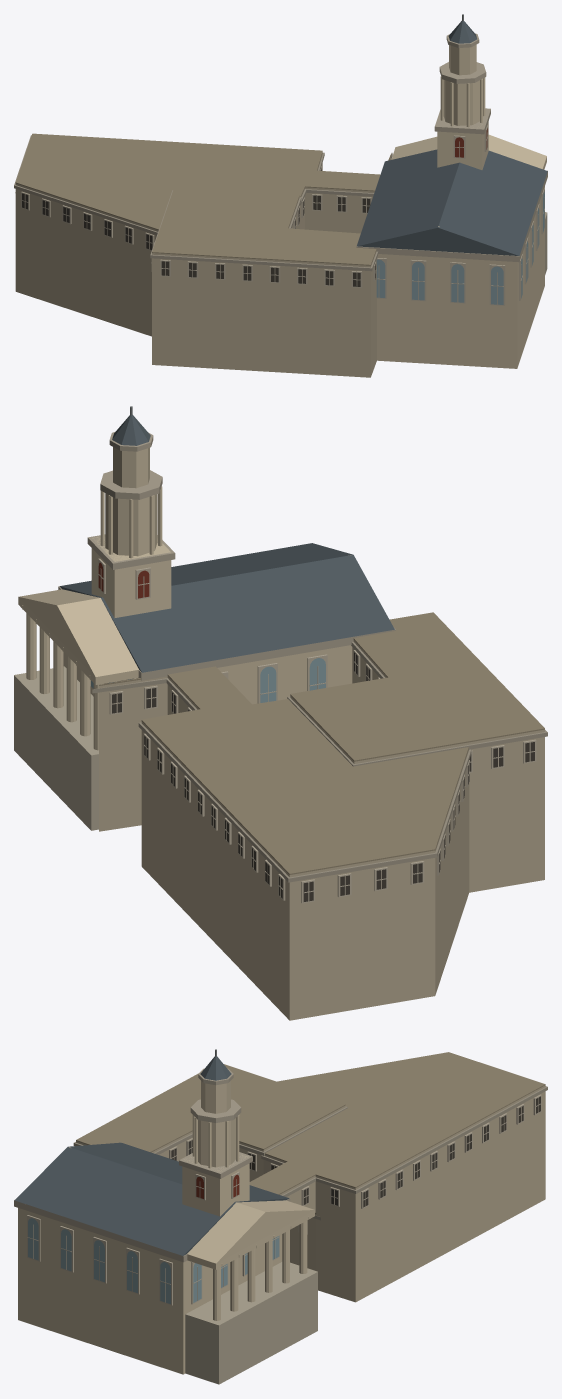
Rendered from st-pauls-episcopal-church.glb.
3 views of the same model, one above another, from view 1: azimuth 30°, elevation 25°; view 2: azimuth 150°, elevation 25°; view 3: azimuth 270°, elevation 25° (orthographic). The views are drawn at different scales.
Visible parts, largest first — view 1: parish-house; view 2: parish-house; view 3: parish-house.
Boxes of the visible parts, x1,y1,x2,y2 form: parish-house: (14, 14, 547, 377); parish-house: (14, 406, 547, 1020); parish-house: (14, 1049, 547, 1384).
Bounding box in the file's own units: 75.42 × 46.84 × 78.01.
